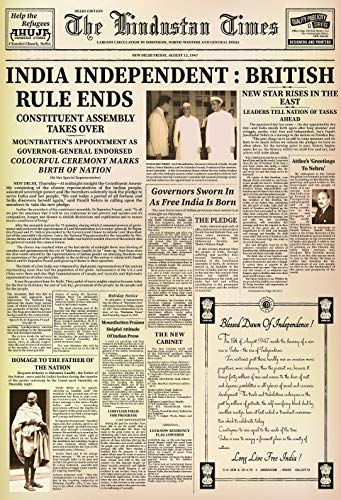news_paper: (4, 1, 341, 489)
